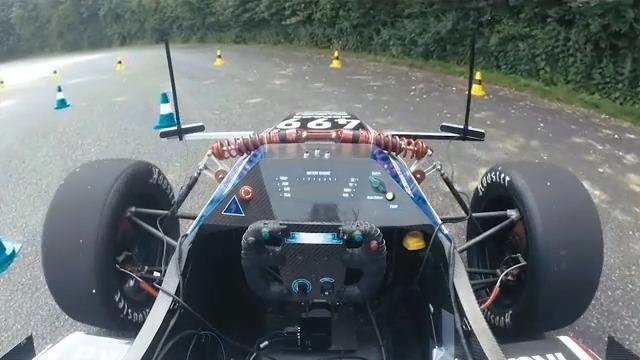blue_cone: (0, 210, 21, 274), (148, 91, 179, 130), (51, 84, 70, 110)
yellow_cone: (467, 71, 485, 96), (330, 50, 341, 70), (211, 52, 223, 68), (114, 57, 123, 72), (50, 68, 60, 81), (0, 78, 7, 93)
